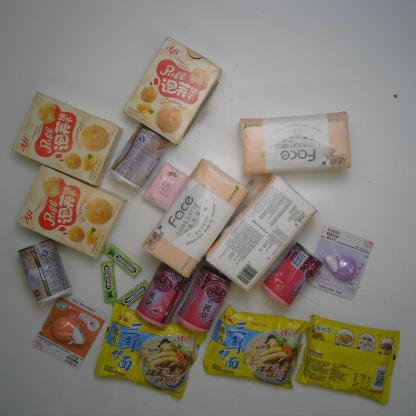Canned Food: (108, 124, 172, 190), (261, 241, 323, 309), (135, 261, 193, 328), (176, 265, 233, 333), (18, 238, 74, 306)
Dessert: (123, 36, 223, 146), (15, 164, 129, 259), (11, 92, 124, 186)
Gum: (103, 243, 142, 279), (111, 280, 150, 310), (101, 261, 117, 303)
Instant Noodles: (94, 303, 207, 401), (295, 314, 400, 406), (202, 304, 310, 389)
Stationery: (32, 292, 108, 370), (306, 225, 374, 301)
Tissue: (204, 173, 318, 294), (140, 157, 250, 280), (237, 110, 352, 178), (142, 162, 189, 211)
